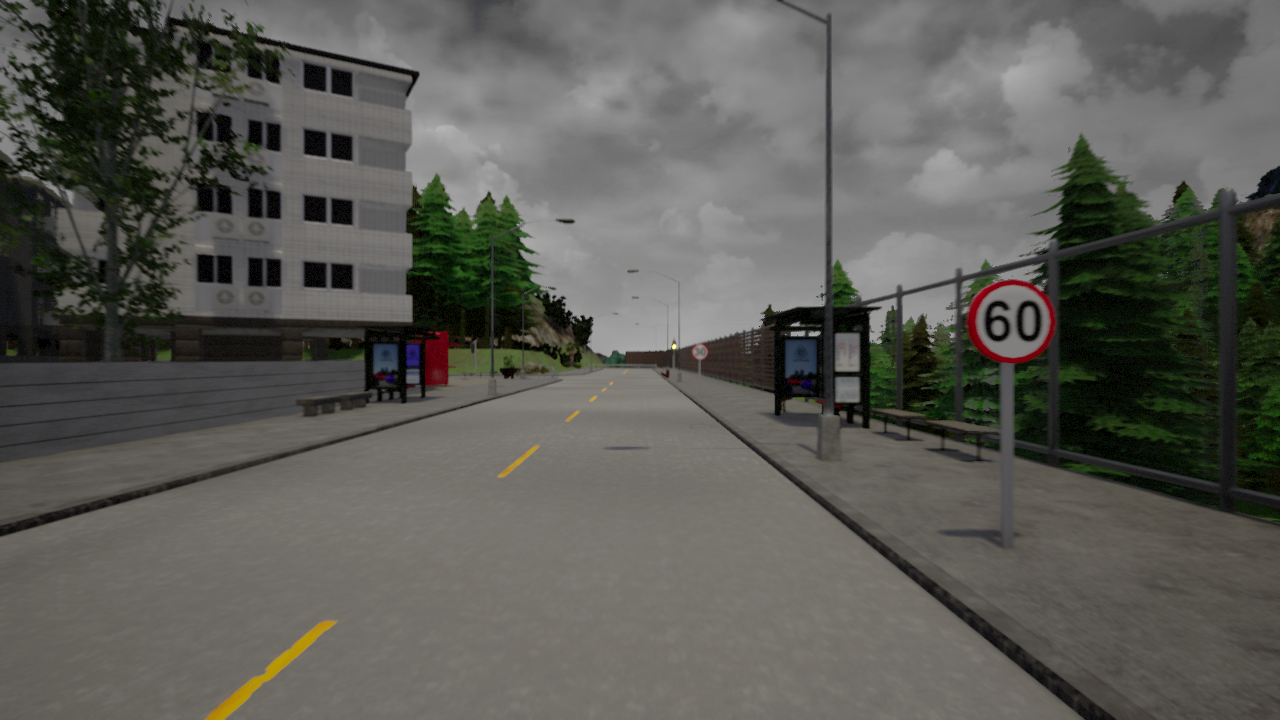yellow: (671, 339, 677, 353)
